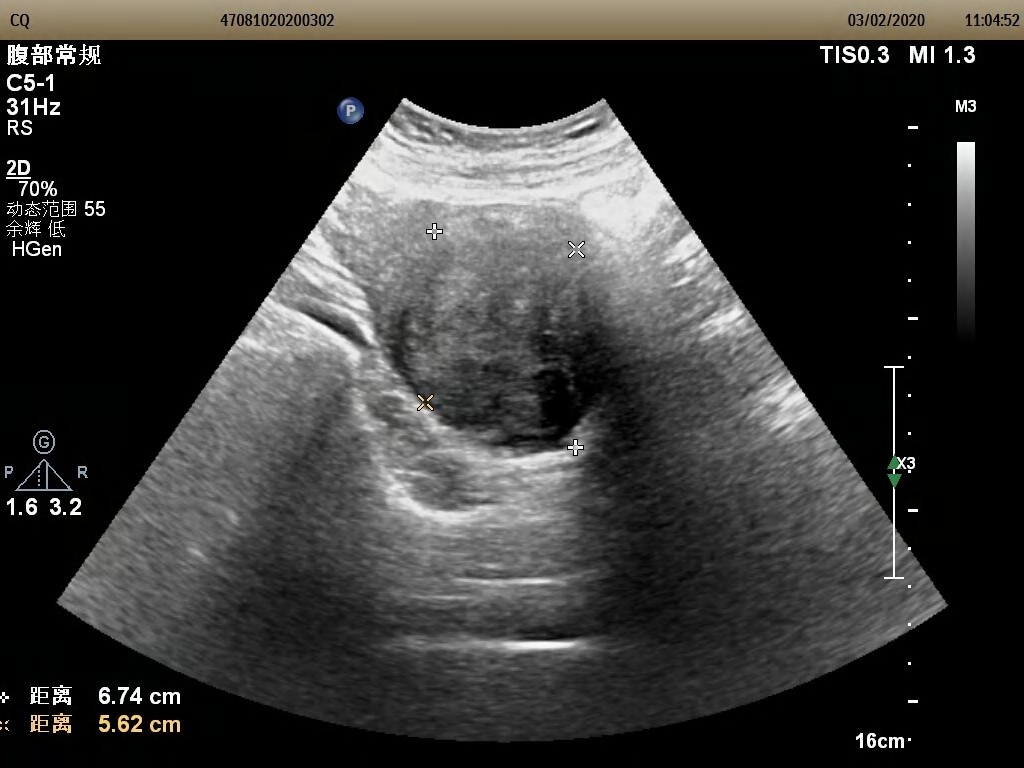肌瘤: (415, 235, 588, 438)
